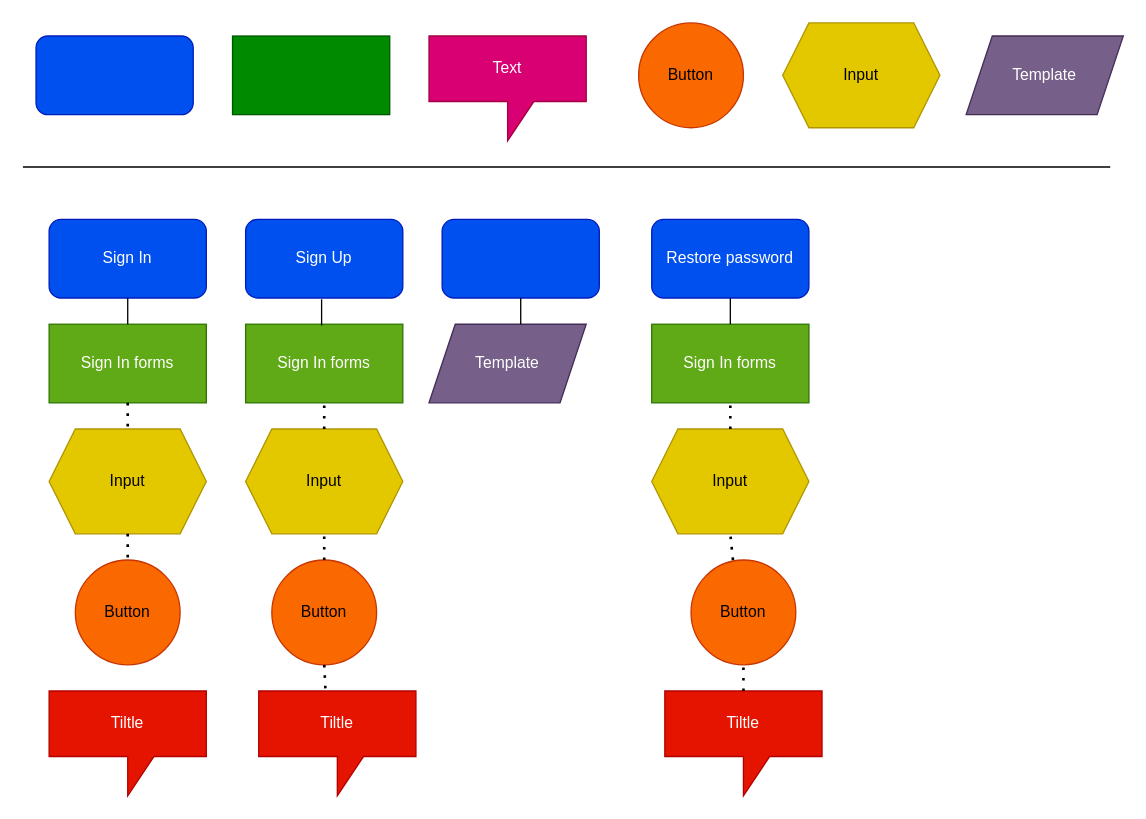
Some shapes in this 1146 by 819 pixel diagram are drawn without their labels. Each missing label, with the centre of its shape:
"Check your box" belongs at (x=520, y=258).
"MultiInputs forms" belongs at (x=310, y=75).
"Pages" belongs at (x=114, y=75).
